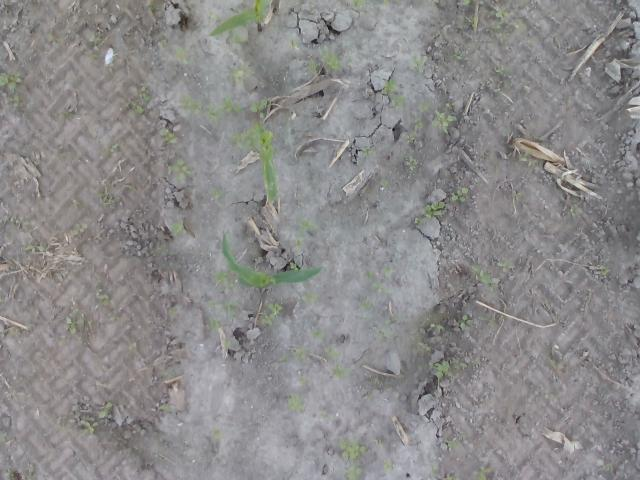Maize: (220, 233, 324, 287), (208, 0, 270, 37), (256, 128, 276, 204)
Weeds: (230, 122, 266, 151), (64, 306, 88, 336), (470, 264, 497, 290), (338, 438, 369, 460), (319, 44, 345, 70), (432, 107, 455, 134), (176, 93, 202, 115), (248, 97, 270, 120), (168, 158, 192, 179), (0, 70, 22, 92), (230, 64, 252, 85), (330, 360, 353, 380), (428, 360, 453, 378), (212, 268, 234, 288), (203, 102, 224, 122), (94, 281, 110, 307), (421, 201, 445, 218), (286, 392, 306, 412), (168, 219, 189, 236), (222, 97, 244, 113), (296, 218, 318, 234), (88, 36, 102, 61), (341, 465, 364, 480), (519, 150, 538, 167), (302, 289, 320, 306), (160, 127, 178, 144), (222, 299, 238, 318), (484, 8, 509, 20), (2, 215, 29, 226), (82, 420, 100, 436), (231, 32, 247, 50), (172, 46, 188, 64), (268, 301, 284, 318), (382, 78, 399, 94), (306, 57, 320, 76), (412, 56, 428, 72), (451, 187, 468, 202), (472, 466, 490, 480), (72, 222, 90, 236), (102, 142, 120, 156), (496, 260, 516, 272), (130, 100, 146, 115), (207, 316, 222, 332), (391, 94, 406, 110), (98, 192, 115, 206), (374, 326, 391, 340), (324, 346, 341, 359), (477, 316, 497, 327), (596, 458, 614, 470), (372, 282, 390, 294), (459, 314, 474, 328), (385, 315, 404, 326), (444, 438, 461, 450), (139, 85, 151, 102), (24, 244, 46, 253), (294, 346, 308, 360), (511, 18, 527, 30), (594, 264, 610, 276), (100, 402, 112, 418), (406, 155, 418, 171), (347, 0, 366, 10), (383, 458, 394, 475), (311, 328, 326, 340), (417, 340, 432, 352), (262, 314, 276, 326), (452, 46, 464, 60), (429, 460, 440, 475), (295, 233, 304, 251), (546, 356, 558, 369), (7, 94, 20, 106), (361, 298, 372, 312), (467, 14, 478, 28), (413, 117, 424, 131), (362, 144, 373, 158), (208, 10, 220, 22), (207, 298, 220, 309), (317, 410, 331, 420), (488, 22, 502, 32), (569, 205, 581, 216), (210, 427, 222, 438), (430, 323, 446, 331), (492, 65, 506, 74), (158, 38, 170, 48), (414, 216, 426, 226), (382, 266, 394, 276), (283, 114, 292, 127), (442, 100, 456, 108), (454, 361, 468, 369), (499, 32, 510, 42), (287, 38, 298, 48), (419, 100, 429, 111), (406, 133, 416, 144), (289, 261, 300, 271), (158, 404, 176, 410), (365, 269, 374, 281), (440, 475, 461, 480), (108, 314, 120, 322), (62, 111, 74, 119), (212, 187, 220, 199), (308, 3, 316, 14), (373, 438, 384, 446), (224, 337, 232, 348), (470, 358, 482, 365), (460, 0, 472, 7), (128, 342, 138, 350), (492, 86, 502, 94), (523, 84, 532, 92), (279, 354, 288, 362), (0, 432, 6, 444), (381, 178, 388, 188), (27, 465, 35, 473), (26, 322, 34, 330), (300, 376, 308, 384), (171, 308, 180, 315), (362, 316, 372, 322), (364, 393, 374, 398), (382, 0, 390, 5), (48, 34, 54, 40), (348, 55, 353, 61), (433, 0, 440, 2)
